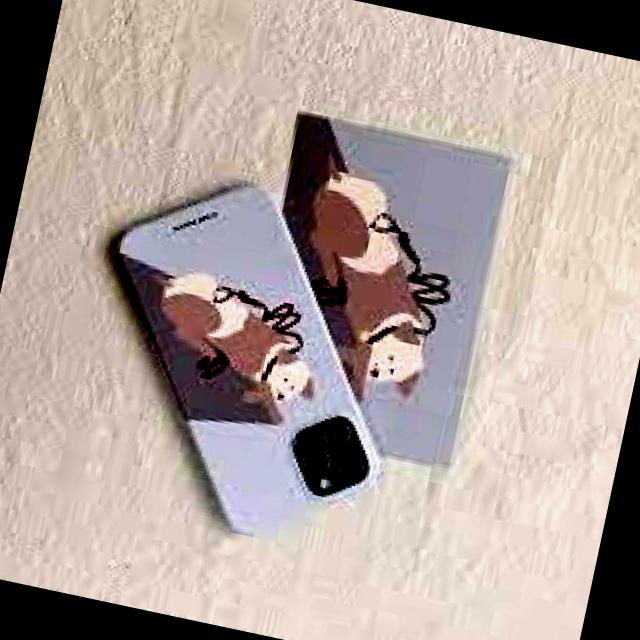lens_back: (330, 450, 368, 484), (318, 418, 353, 450), (298, 446, 333, 478)
phone: (51, 158, 433, 560)
